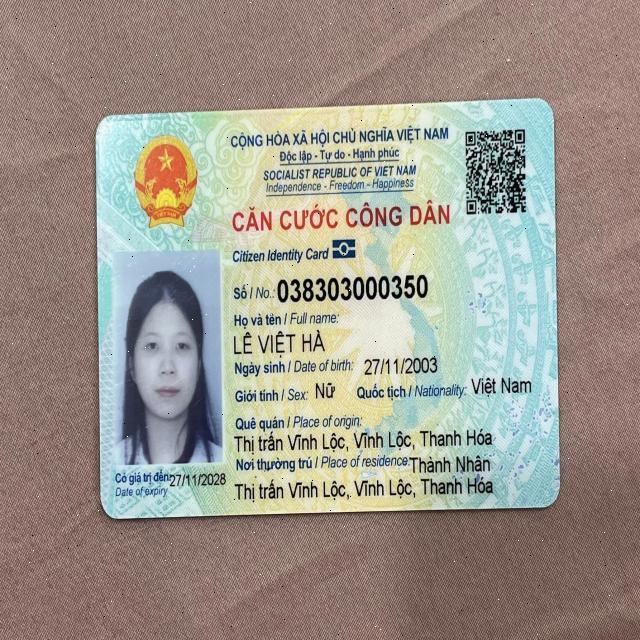current_place: (233, 473, 494, 504), (408, 452, 491, 476)
dob: (357, 353, 440, 377)
expire_date: (166, 468, 225, 490)
gender: (311, 374, 346, 399)
id: (275, 270, 428, 302)
name: (230, 326, 326, 357)
nationality: (467, 368, 533, 405)
origin_place: (234, 429, 495, 455)
